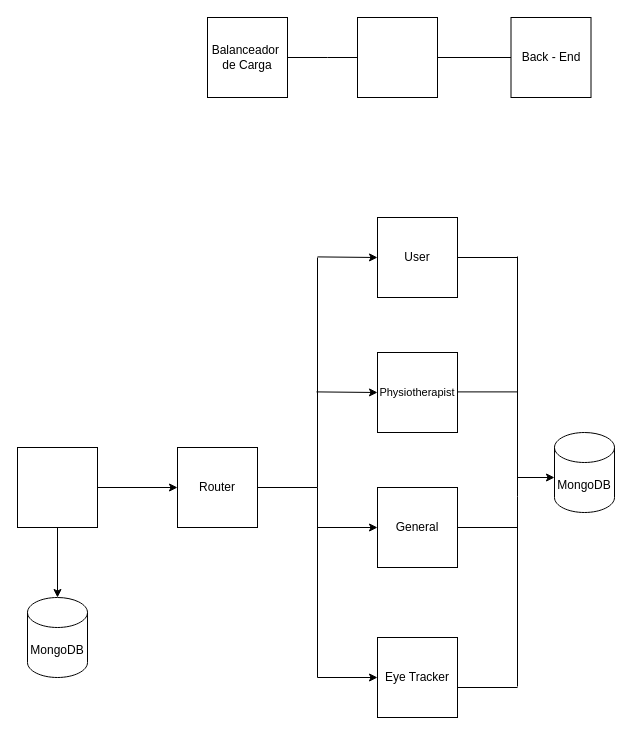
The diagram is 632 pixels wide and 735 high, and some of its shapes have lost their labels. The box of each missing label's shape, as (x1, y1, x2, y2) in pixels:
Authentication Authorization: (16, 446, 98, 528)
Front - End: (356, 16, 438, 98)
